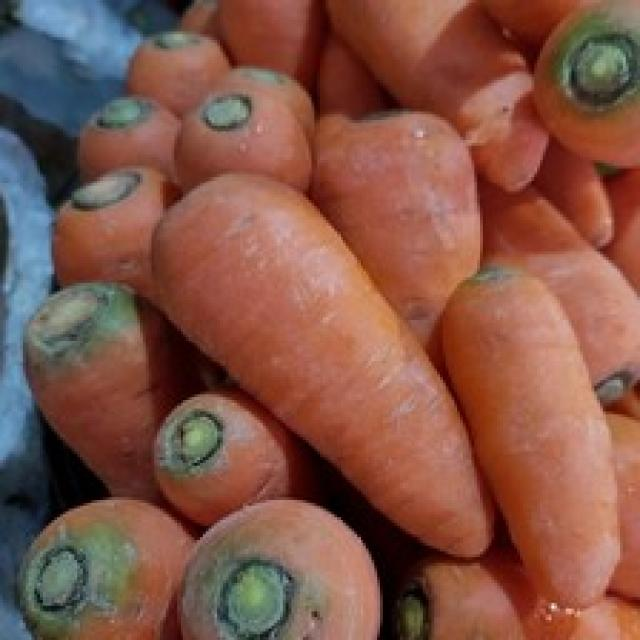Fresh_Carrot: (154, 174, 491, 556), (443, 302, 622, 610), (329, 5, 545, 146)
